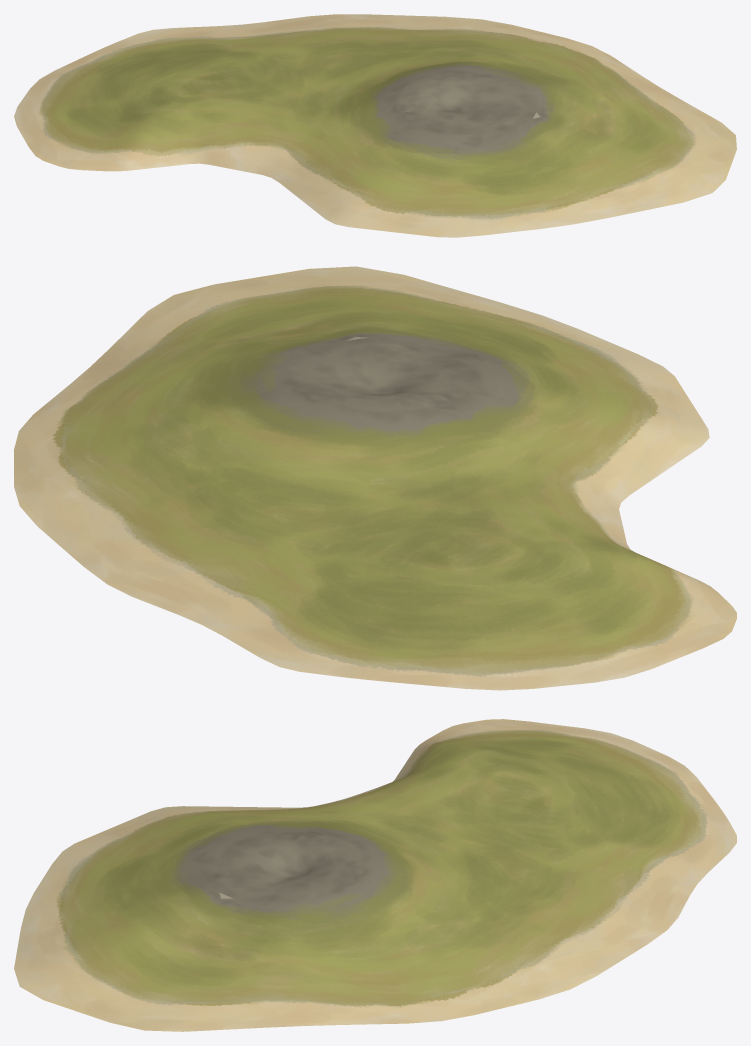
File: island.obj
3 renders of one model, top to bottom at view 1: azimuth 30°, elevation 25°; view 2: azimuth 150°, elevation 25°; view 3: azimuth 270°, elevation 25°, orthographic. The views are drawn at different scales.
Parts seen in each view (by area): view 1: obj.island.000_Sphere; view 2: obj.island.000_Sphere; view 3: obj.island.000_Sphere.
Boxes of the visible parts, bbox=[...] form: obj.island.000_Sphere: bbox=[14, 14, 736, 237]; obj.island.000_Sphere: bbox=[14, 266, 736, 690]; obj.island.000_Sphere: bbox=[14, 719, 736, 1031].
Bounding box in the file's own units: 115 × 8.48 × 112.
